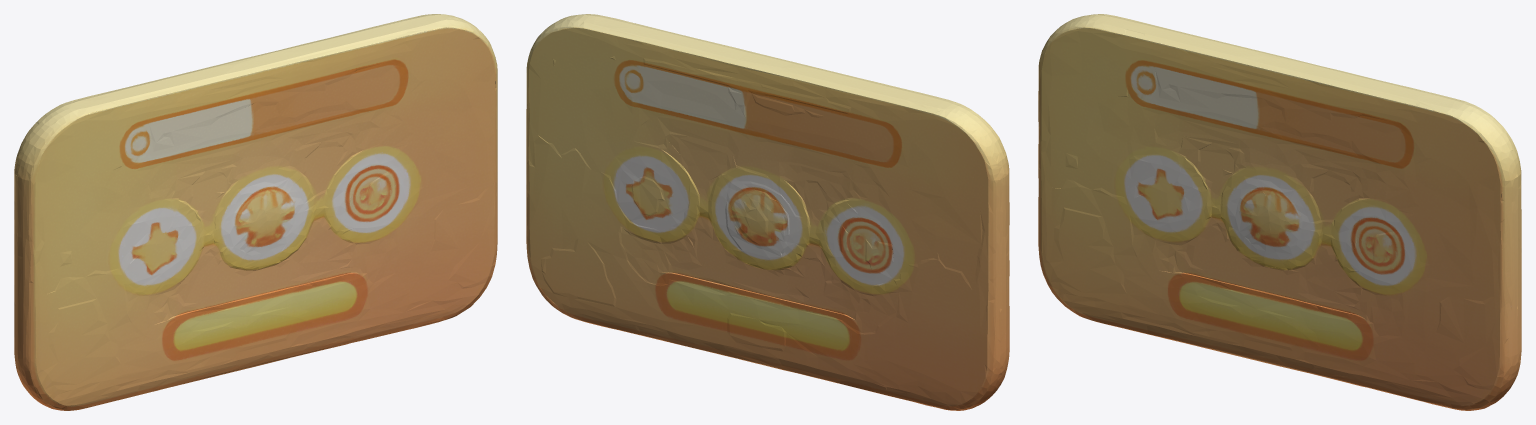
The model's file is popup_growth_offer.glb.
3 renders of one model, left to right at view 1: azimuth 30°, elevation 25°; view 2: azimuth 150°, elevation 25°; view 3: azimuth 330°, elevation 25°, orthographic.
Parts seen in each view (by area): view 1: world; view 2: world; view 3: world.
Boxes of the visible parts, box(x1,y1,x2,y2) form: world: box(14, 14, 497, 410); world: box(526, 14, 1009, 410); world: box(1038, 14, 1521, 410).
Size of the model in its own units: 1 by 0.6063 by 0.0768.
1 material, 1 textured.
